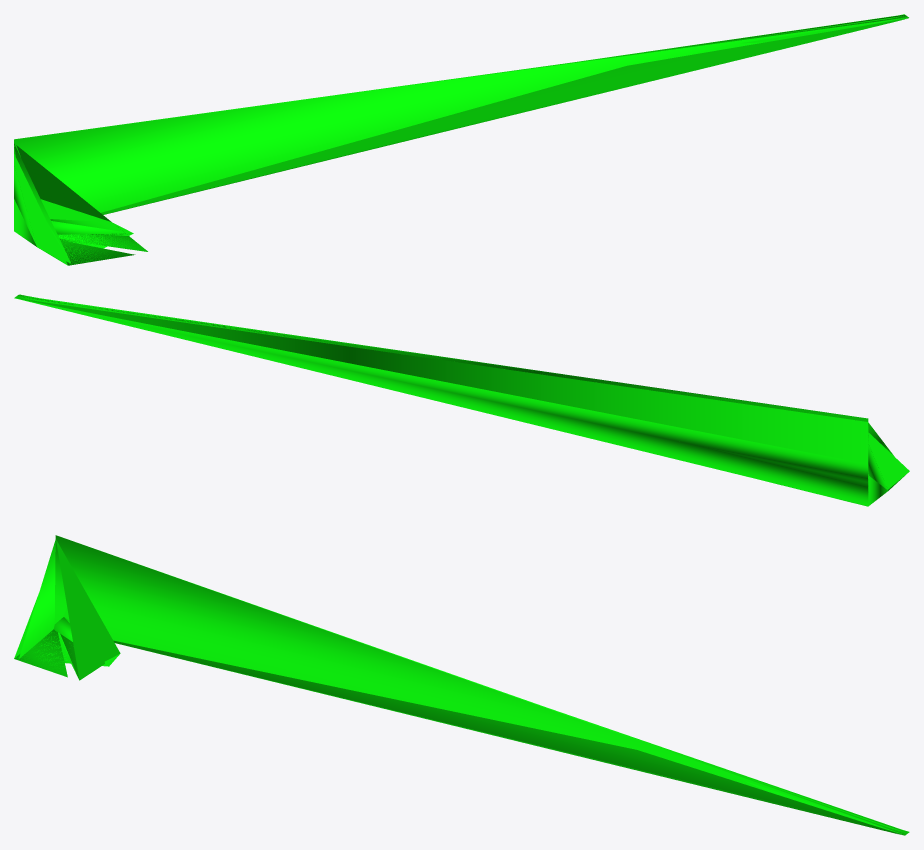
Rendered from bedroll.fbx.
3 renders of one model, top to bottom at view 1: azimuth 30°, elevation 25°; view 2: azimuth 150°, elevation 25°; view 3: azimuth 330°, elevation 25°, orthographic. The views are drawn at different scales.
Visible parts, largest first — view 1: bedroll; view 2: bedroll; view 3: bedroll.
Boxes of the visible parts, bbox=[...] form: bedroll: bbox=[14, 14, 908, 265]; bedroll: bbox=[14, 294, 909, 506]; bedroll: bbox=[14, 535, 909, 835].
Size of the model in its own units: 8968004 by 885103 by 961321.
